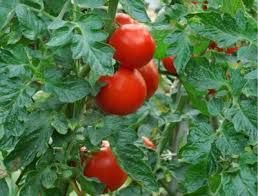tomato: (95, 67, 146, 116), (78, 142, 127, 192), (108, 22, 155, 71)
